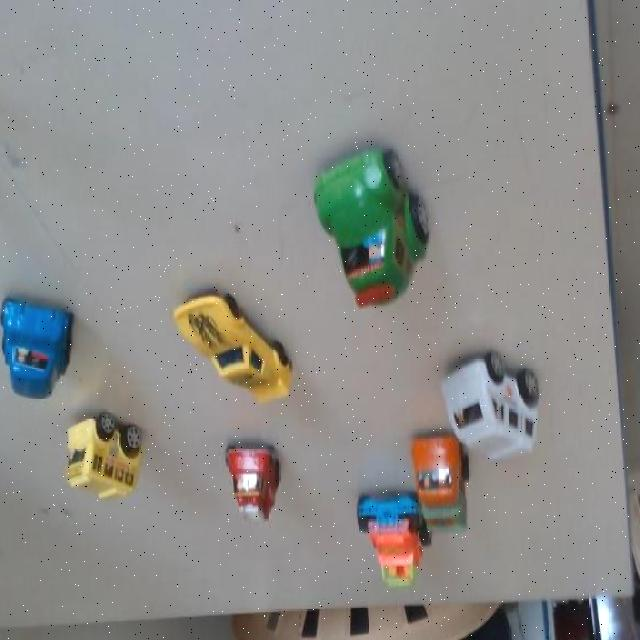car: (312, 157, 436, 304), (436, 338, 542, 469), (177, 291, 296, 400), (340, 486, 427, 596), (68, 405, 153, 503), (409, 425, 475, 543), (0, 297, 72, 399), (223, 430, 291, 528)
